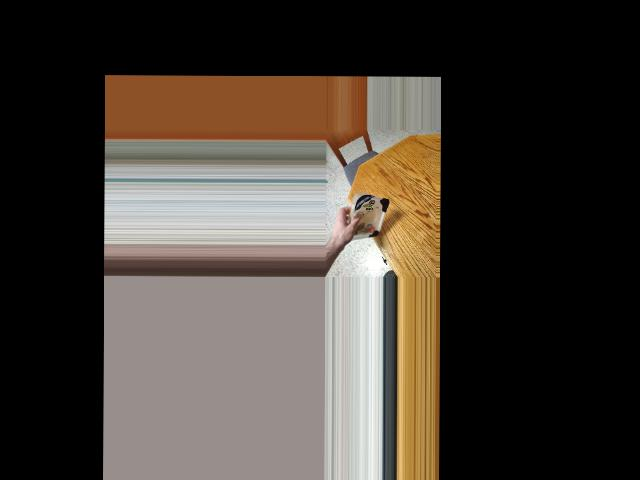cheese: (349, 190, 384, 242)
